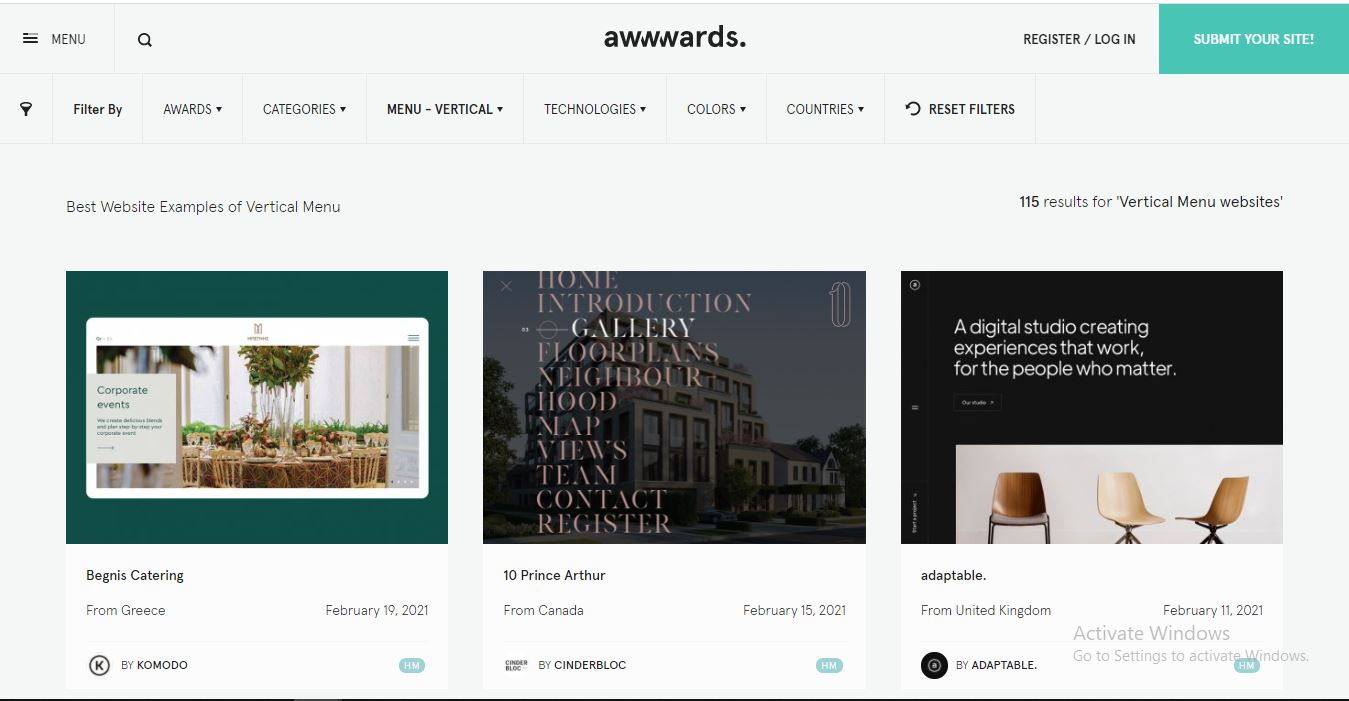Button: (1156, 0, 1349, 74), (4, 6, 115, 64)
Menu Bar: (6, 70, 1037, 132)
